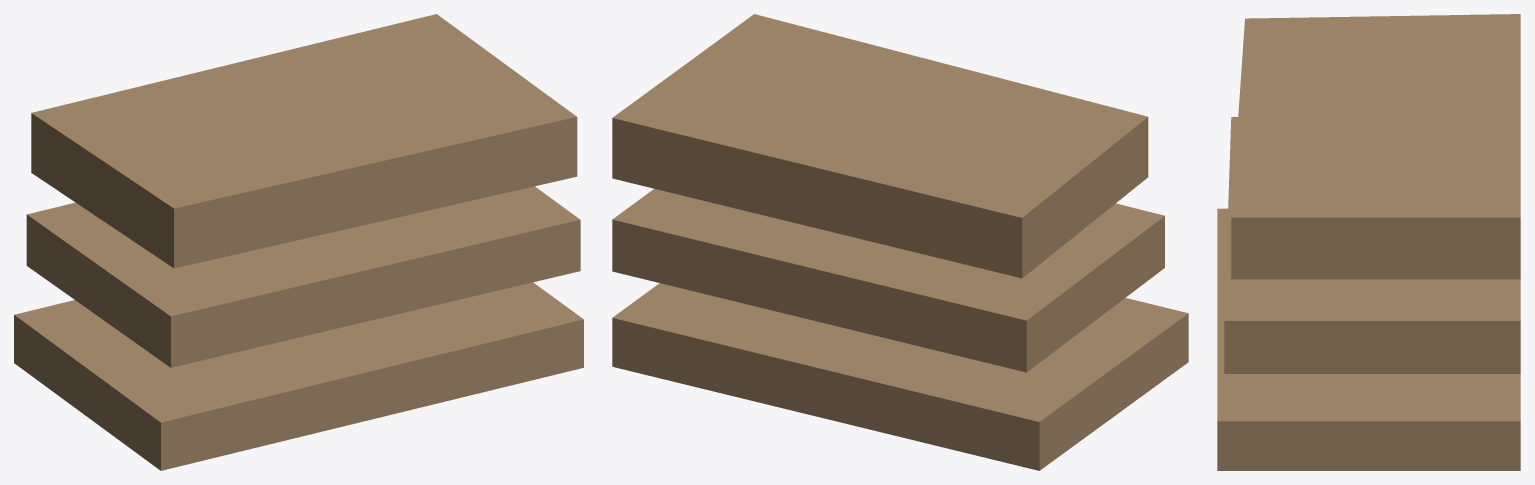
The model's file is HokageRock_HokageRock.fbx.
The picture shows the model from 3 angles, left to right: view 1: azimuth 30°, elevation 25°; view 2: azimuth 150°, elevation 25°; view 3: azimuth 270°, elevation 25°; orthographic projection. The views are drawn at different scales.
Visible parts, largest first — view 1: Cliff0.001; view 2: Cliff0.001; view 3: Cliff0.001.
Part boxes in pixels (bbox=[...]): Cliff0.001: bbox=[14, 14, 583, 470]; Cliff0.001: bbox=[612, 14, 1188, 470]; Cliff0.001: bbox=[1217, 14, 1520, 470].
Bounding box in the file's own units: 10950 × 6088 × 6600.
